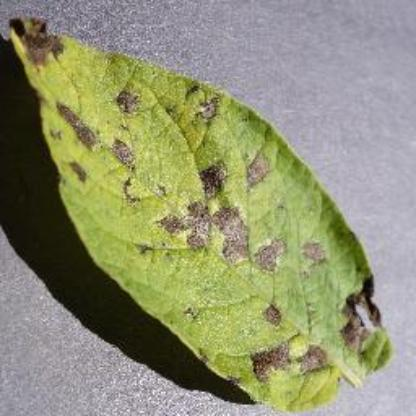Early-Blight: (9, 11, 409, 412)
